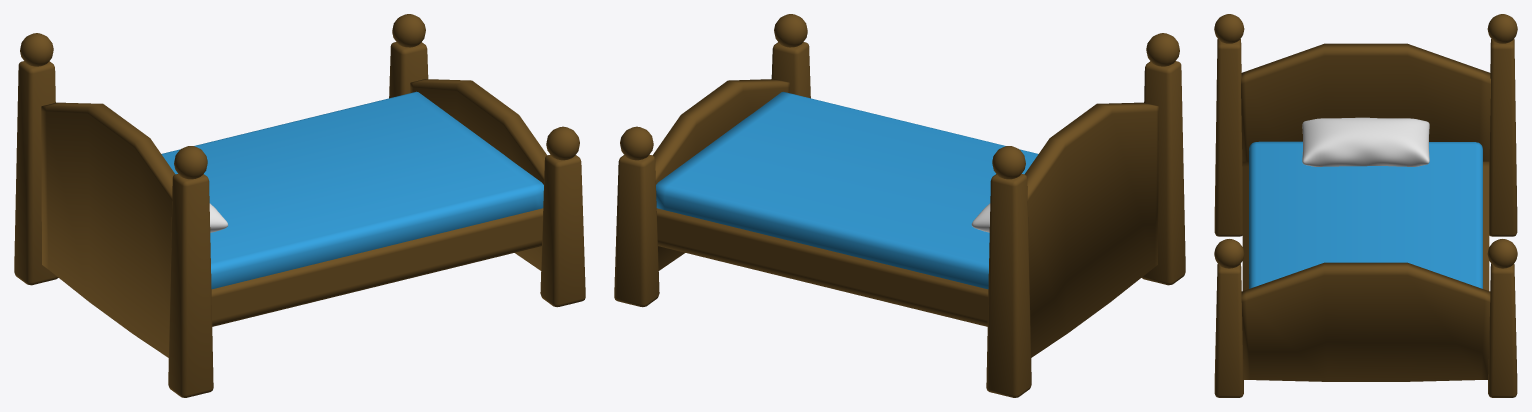
Rendered from Kasur.glb.
The picture shows the model from 3 angles, left to right: view 1: azimuth 30°, elevation 25°; view 2: azimuth 150°, elevation 25°; view 3: azimuth 270°, elevation 25°; orthographic projection. The views are drawn at different scales.
Visible parts, largest first — view 1: Bed Stand, Bed; view 2: Bed Stand, Bed; view 3: Bed Stand, Bed, Pillow.
Boxes of the visible parts, x1,y1,x2,y2 form: Bed Stand: (14,14,585,397); Bed: (161,91,543,289); Bed Stand: (614,14,1185,397); Bed: (656,91,1038,289); Bed Stand: (1214,14,1517,397); Bed: (1249,141,1482,288); Pillow: (1302,117,1429,166).
Bounding box in the file's own units: 2.21 × 1.27 × 1.62.
